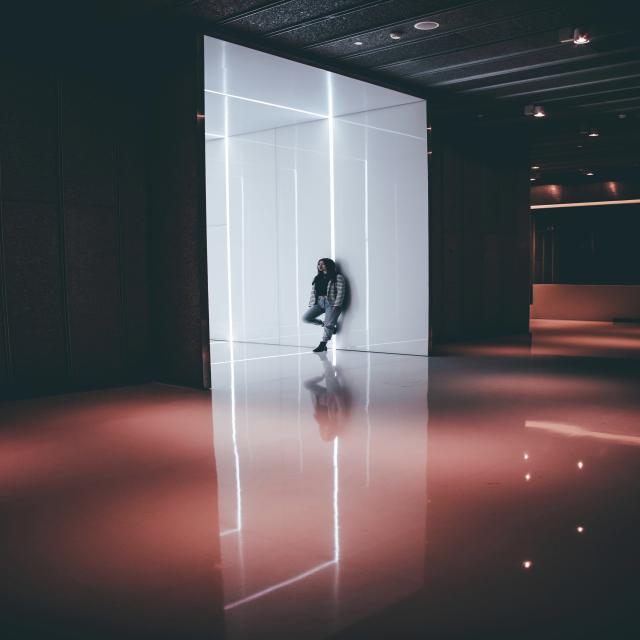adult: (299, 257, 346, 353)
